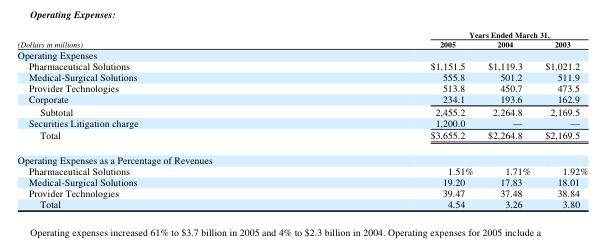table: (16, 29, 587, 209)
table column: (16, 29, 283, 209), (283, 29, 479, 209), (479, 29, 537, 209), (537, 29, 587, 209)
table column header: (16, 29, 587, 48)
table projected row header: (16, 147, 587, 165), (16, 48, 587, 60)
table row: (16, 128, 587, 147), (16, 147, 587, 165), (16, 48, 587, 60), (16, 93, 587, 105), (16, 105, 587, 117), (16, 60, 587, 71), (16, 71, 587, 82), (16, 82, 587, 93), (16, 117, 587, 128), (16, 165, 587, 176), (16, 176, 587, 187), (16, 187, 587, 198), (16, 198, 587, 209), (16, 38, 587, 48), (16, 29, 587, 38)
table spanning cell: (16, 29, 283, 48), (283, 29, 587, 38)
